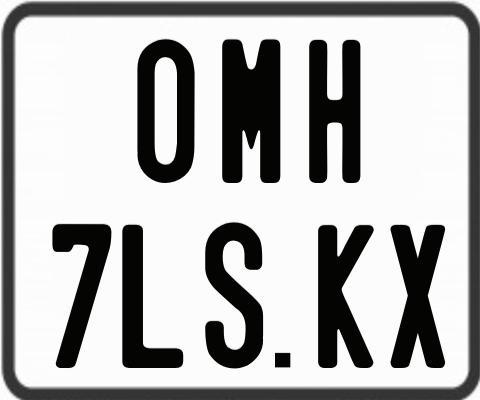0: (134, 37, 198, 183)
7: (50, 222, 115, 372)
H: (308, 38, 360, 183)
K: (315, 225, 371, 368)
L: (119, 225, 184, 368)
M: (222, 36, 285, 185)
S: (205, 220, 266, 369)
X: (388, 222, 448, 369)
